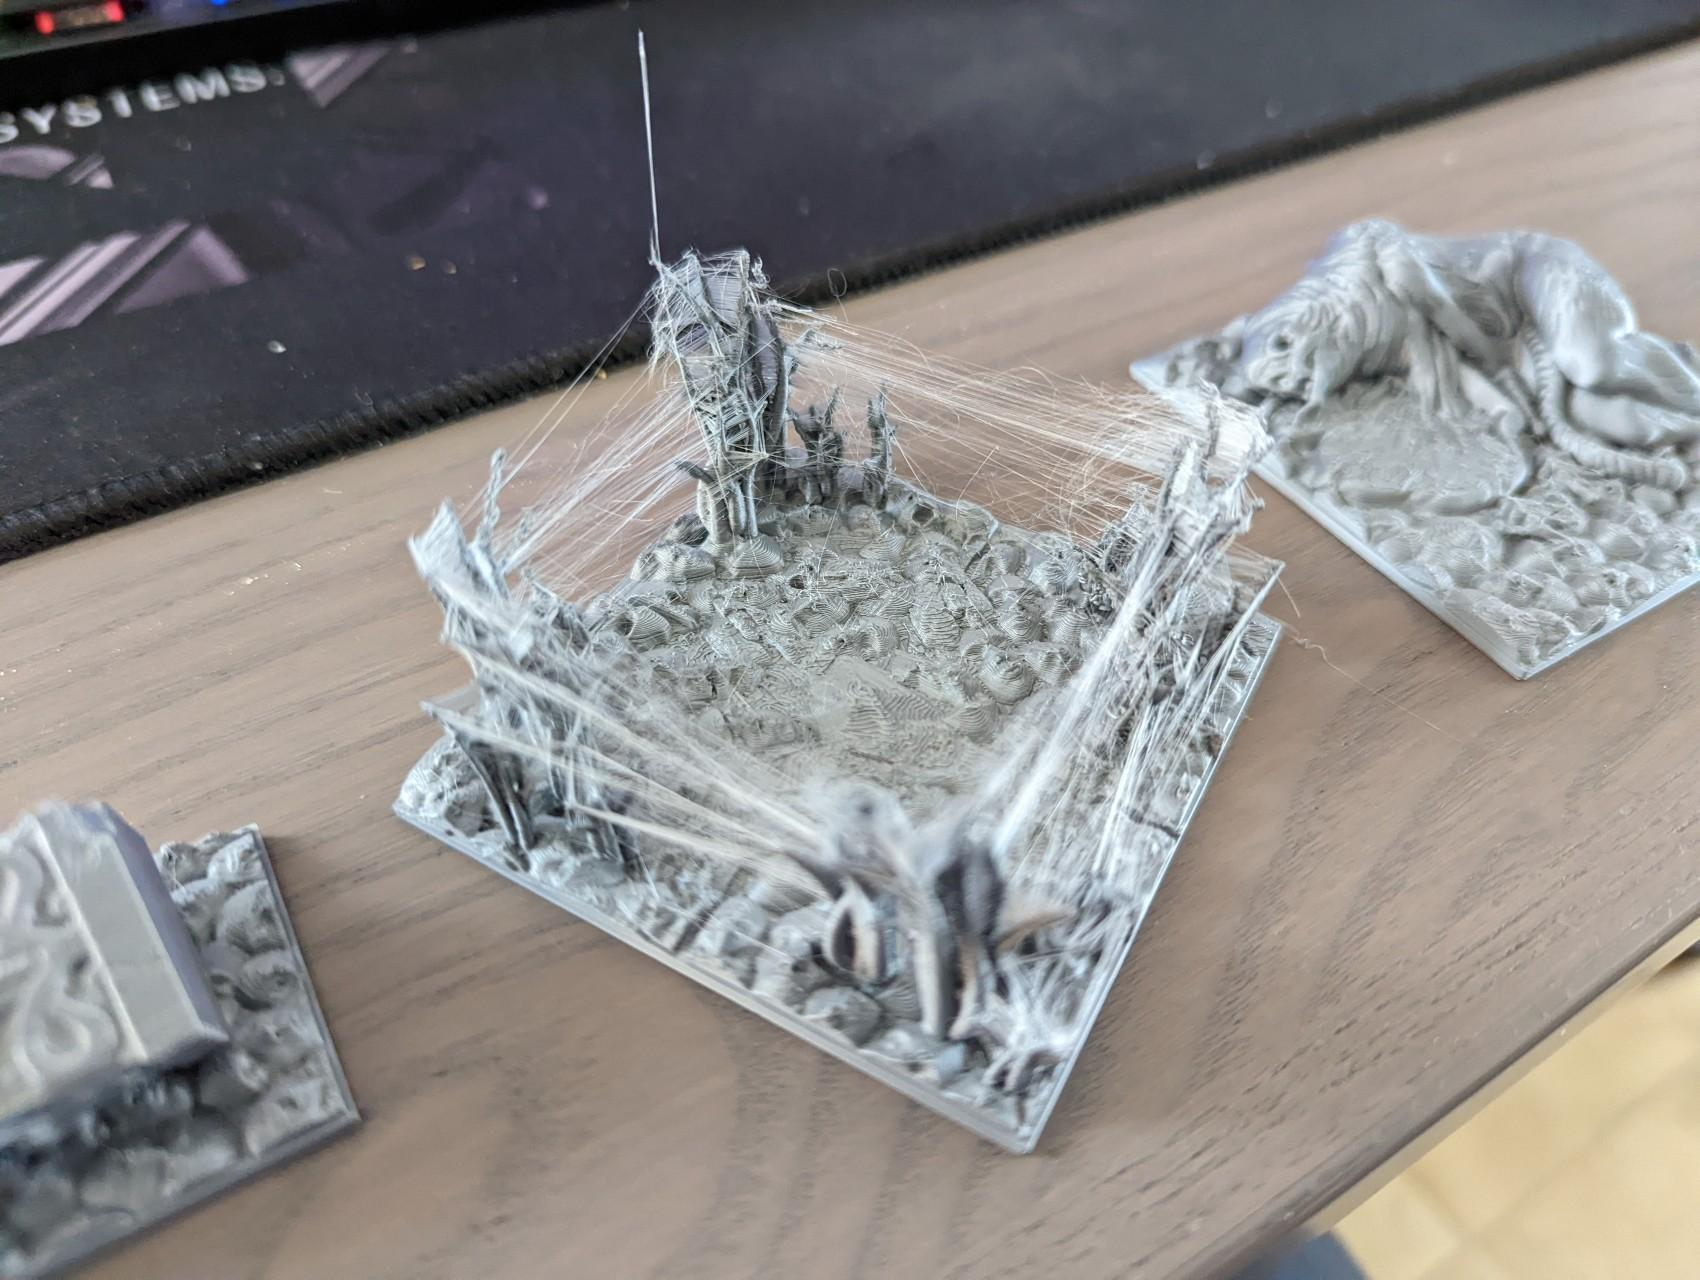Stringing or Oozing: (419, 586, 871, 952), (765, 292, 1175, 569), (820, 1051, 1524, 1199), (336, 543, 773, 770)
